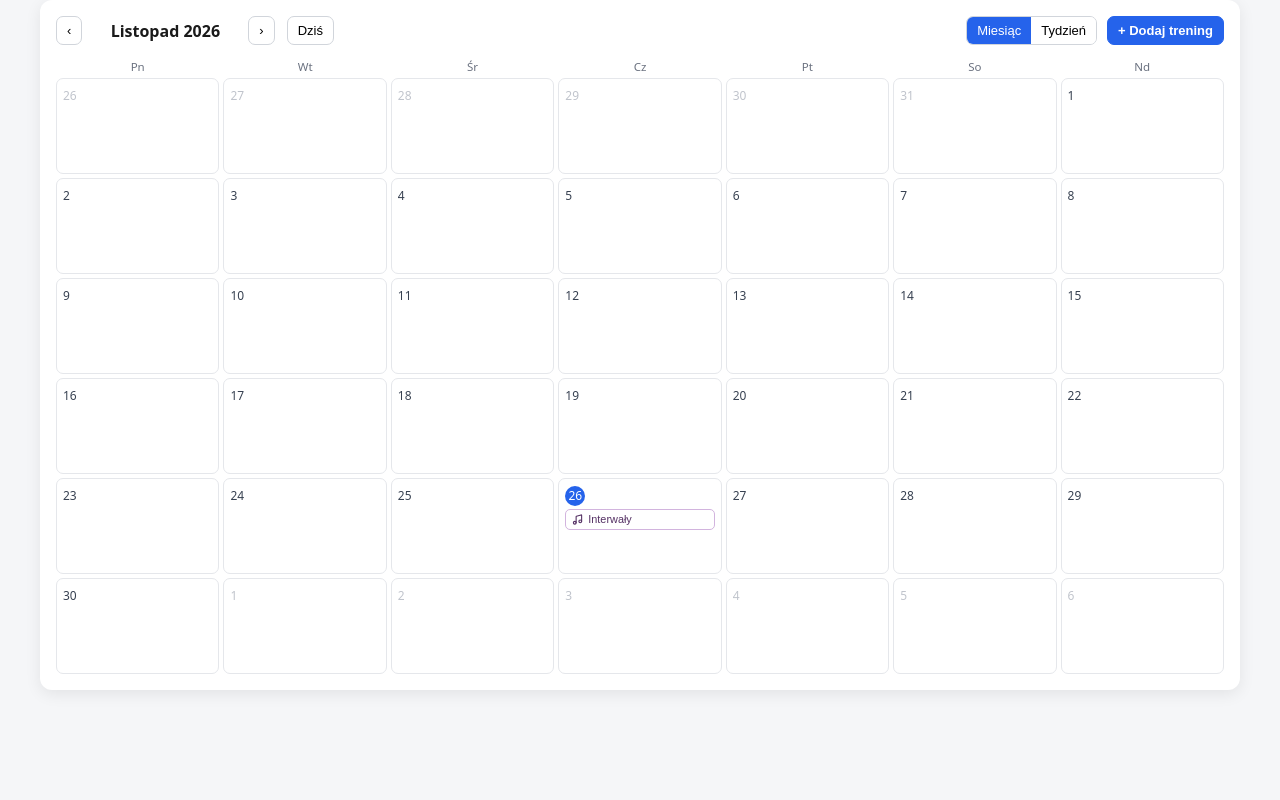
CalendarPage › w trybie podglądu › plan innego trenera otwiera się bez zmiany stanu, edycji i usuwania, z informacją o autorze
Click the button titled "Interwały" at (640, 519), box [565,508,715,530]
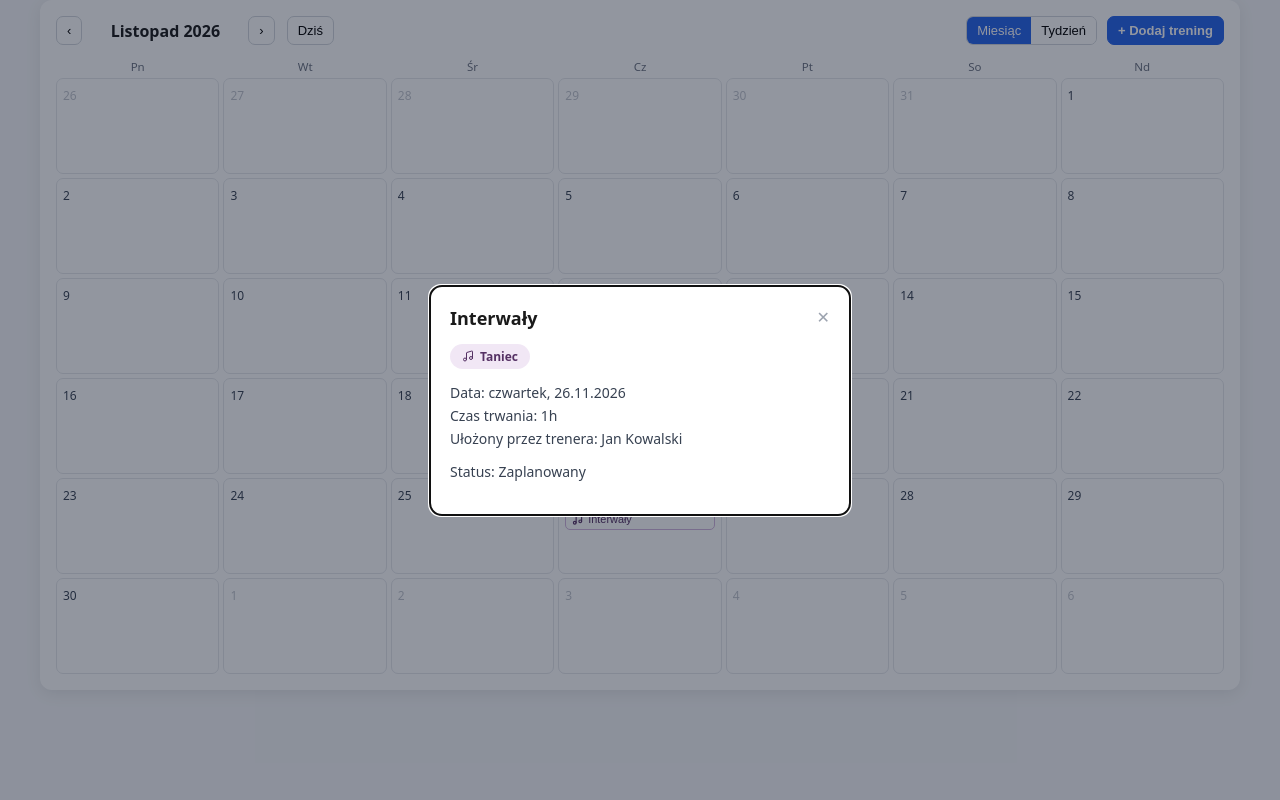
Now the text "Ułożony przez trenera: Jan Kowalski" is shown, box [450,428,682,448]
